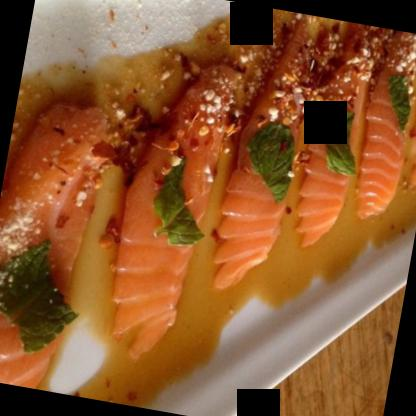salmon: (100, 48, 244, 356), (0, 99, 120, 395), (206, 15, 324, 289), (285, 42, 373, 247), (348, 46, 415, 217), (398, 36, 415, 188)
